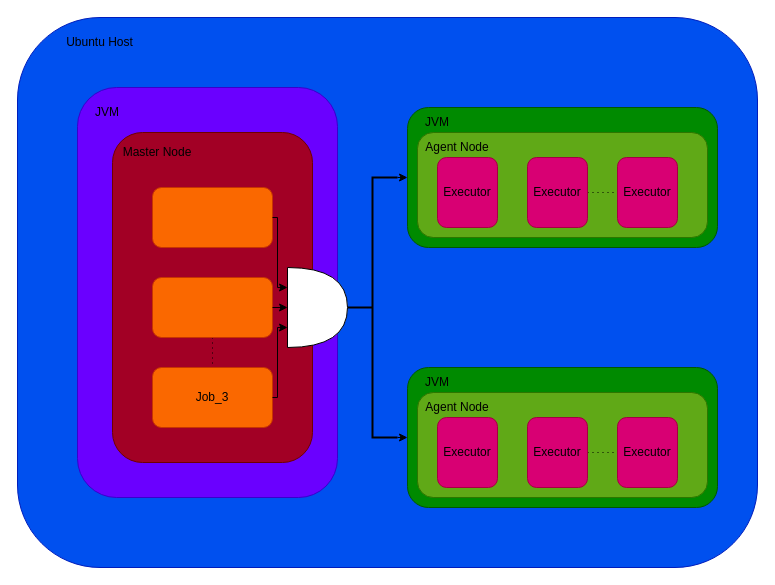
Some shapes in this 775 by 585 pixel diagram are drawn without their labels. The shapes that lost their labels are listed below. From the top down, each one's centre as x and y in pixels, then its label:
point 212,217: Job_1
point 212,307: Job_2
